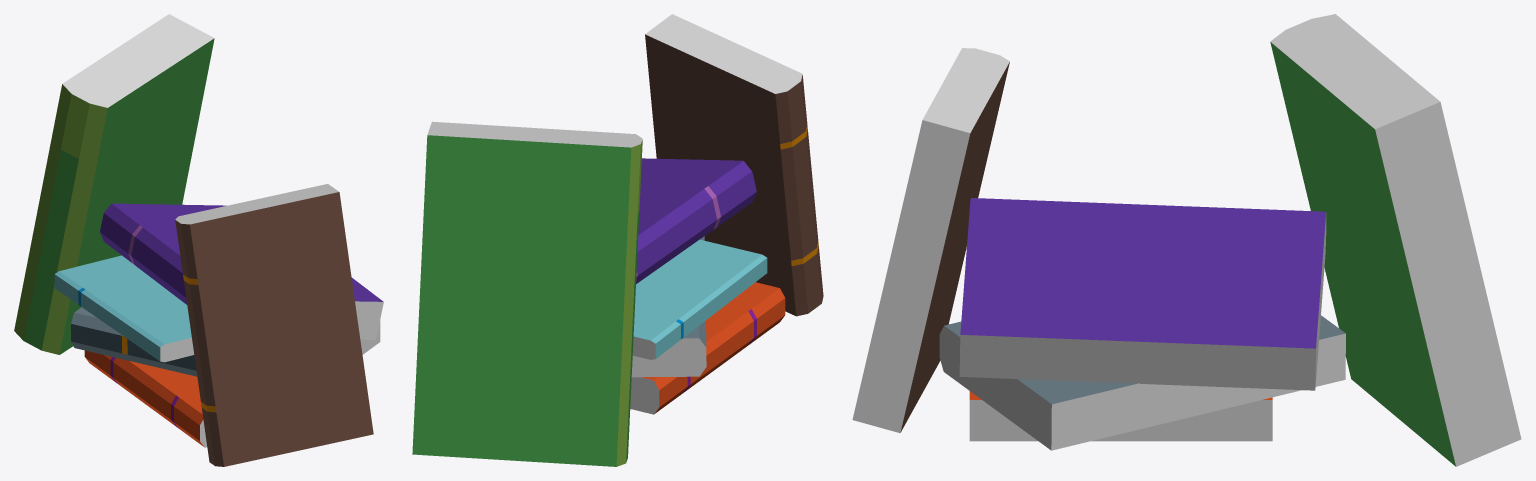
The model's file is Books.glb.
3 views of the same model, side by side, from view 1: azimuth 30°, elevation 25°; view 2: azimuth 150°, elevation 25°; view 3: azimuth 270°, elevation 25° (orthographic). The views are drawn at different scales.
Visible parts, largest first — view 1: node_MeshObject1051902528-PolyPaper1; view 2: node_MeshObject1051902528-PolyPaper1; view 3: node_MeshObject1051902528-PolyPaper1.
Part boxes in pixels (box(x1,y1,x2,y2)): node_MeshObject1051902528-PolyPaper1: box(14, 14, 383, 466); node_MeshObject1051902528-PolyPaper1: box(412, 14, 823, 466); node_MeshObject1051902528-PolyPaper1: box(852, 14, 1521, 466).
Size of the model in its own units: 0.48 by 0.5379 by 0.8832.
